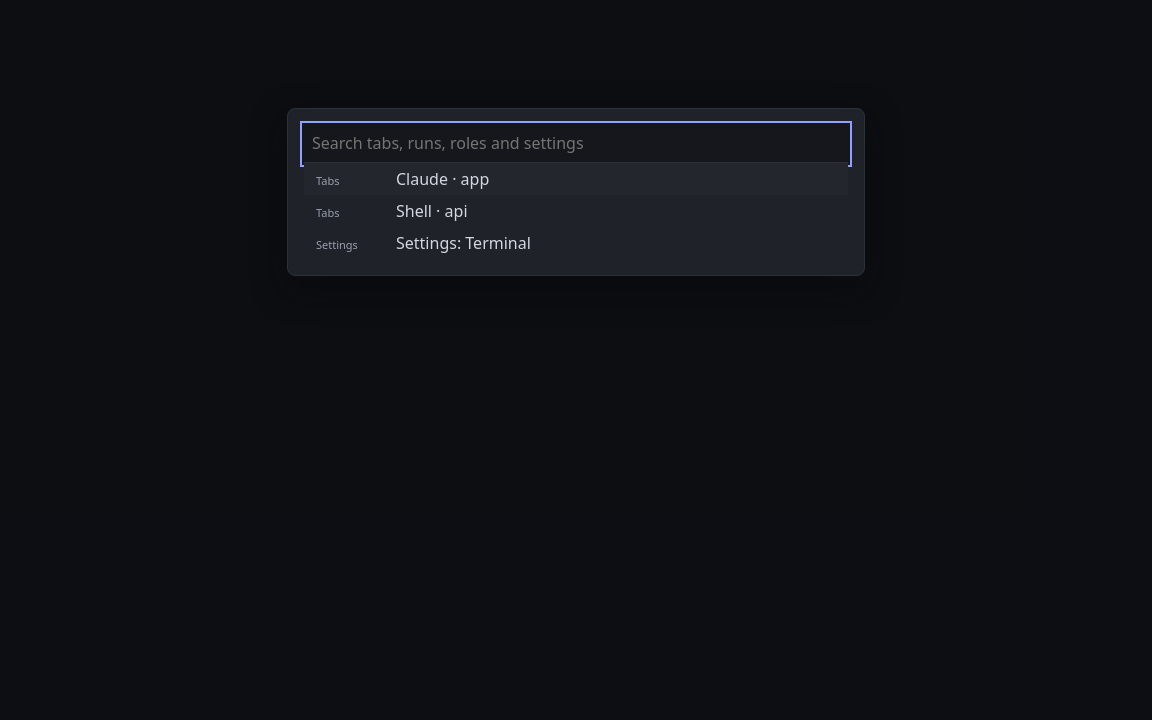
Test: CommandPalette › lists queryItems first and unfiltered, and none for an empty query
This screenshot has width=1152, height=720.
Later steps or results of the test are not shown.
Expected: the number of options is 3, x1=304 y1=163 x2=848 y2=195; x1=316 y1=200 x2=468 y2=222; x1=316 y1=232 x2=531 y2=254
Expected: the option "Open run link" is not shown
Type "Shell" into the dropdown at (576, 144), box x1=304 y1=125 x2=848 y2=163
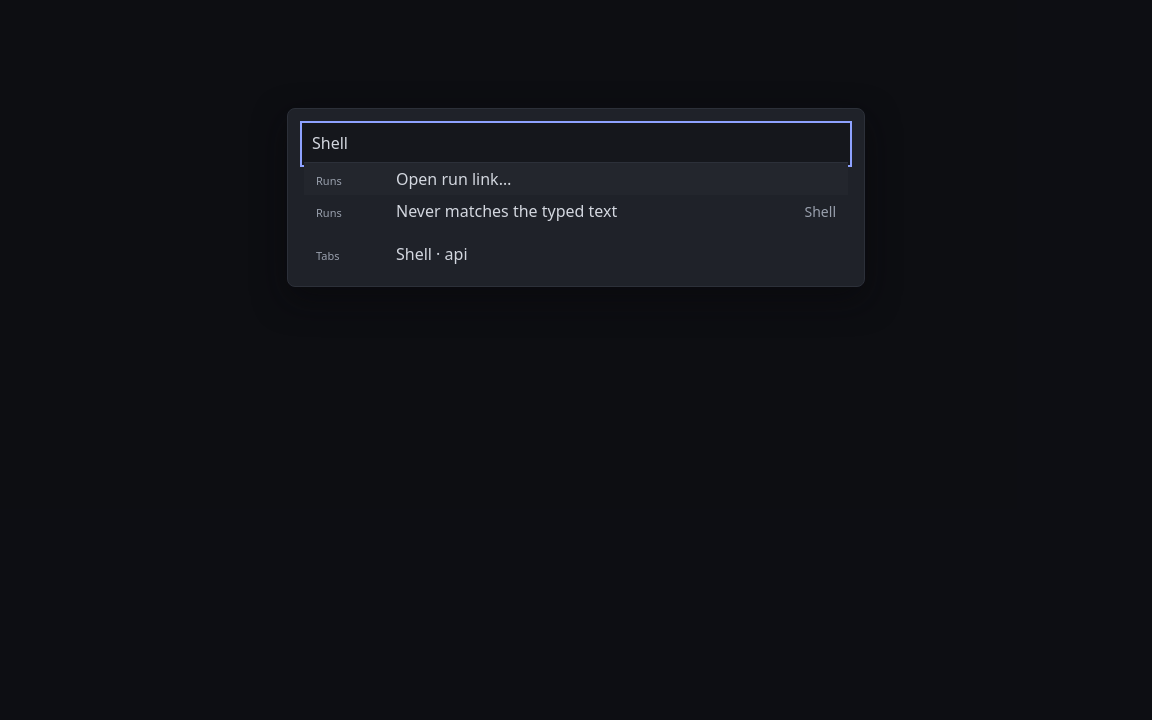
Expected: the option "Tabs Shell · api" is shown, x1=316 y1=243 x2=468 y2=265
Result: the option "Runs Open run link…" is shown at x1=304 y1=163 x2=848 y2=195
Result: the option "Runs Never matches the typed text Shell" is shown at x1=316 y1=200 x2=836 y2=222
